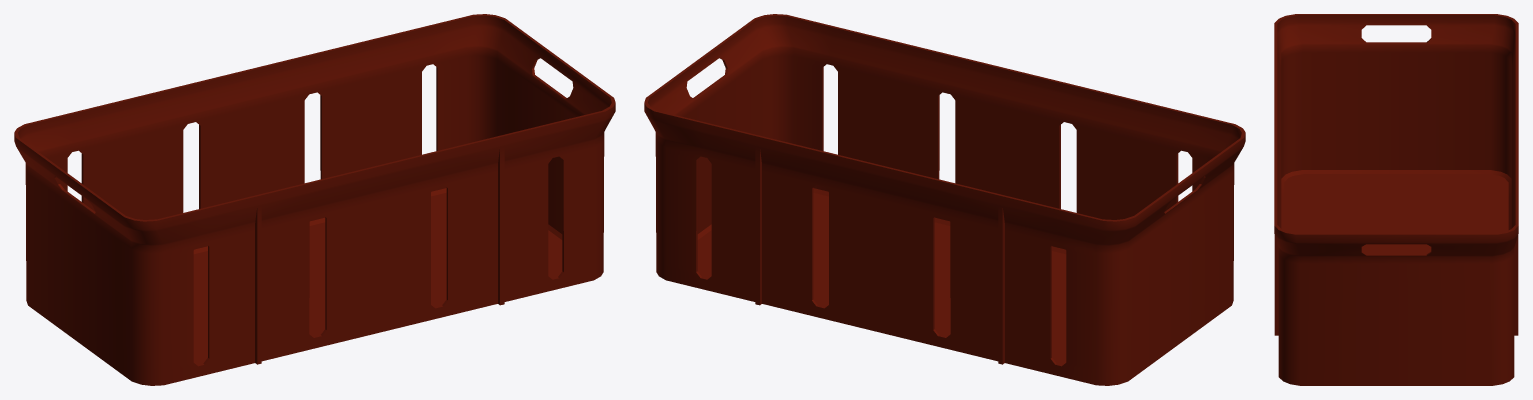
File: storage2.FBX
3 views of the same model, side by side, from view 1: azimuth 30°, elevation 25°; view 2: azimuth 150°, elevation 25°; view 3: azimuth 270°, elevation 25° (orthographic). The views are drawn at different scales.
Parts seen in each view (by area): view 1: storage2; view 2: storage2; view 3: storage2.
Boxes of the visible parts, box(x1,y1,x2,y2) form: storage2: box(14, 14, 615, 385); storage2: box(644, 14, 1245, 385); storage2: box(1274, 14, 1518, 385).
Bounding box in the file's own units: 85.33 × 28.05 × 39.89.
